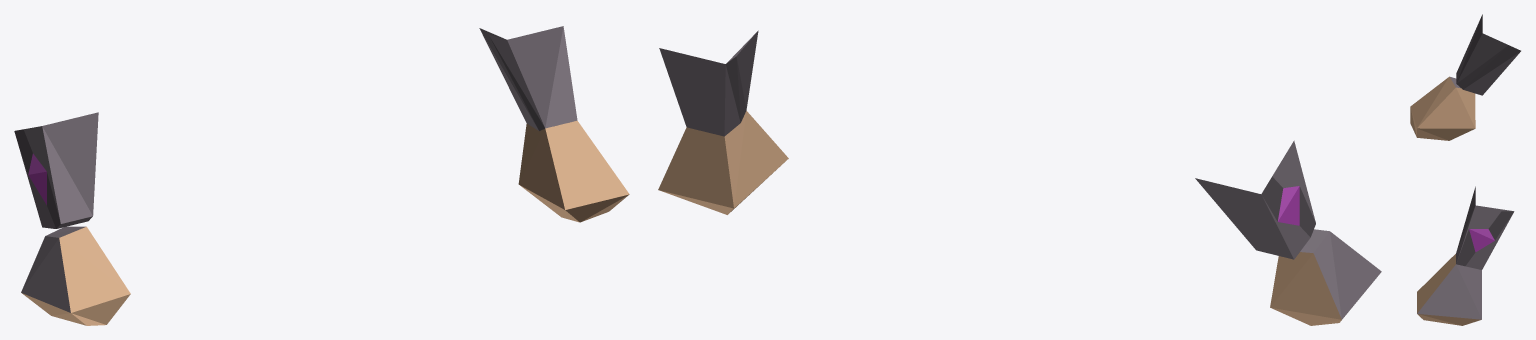
Rendered from male_Zaryte_vambraces-v2.glb.
3 views of the same model, side by side, from view 1: azimuth 30°, elevation 25°; view 2: azimuth 150°, elevation 25°; view 3: azimuth 270°, elevation 25° (orthographic). The views are drawn at different scales.
Bounding box in the file's own units: 70.83 × 23.63 × 17.08.
Materials: 1 (1 with a texture image).
